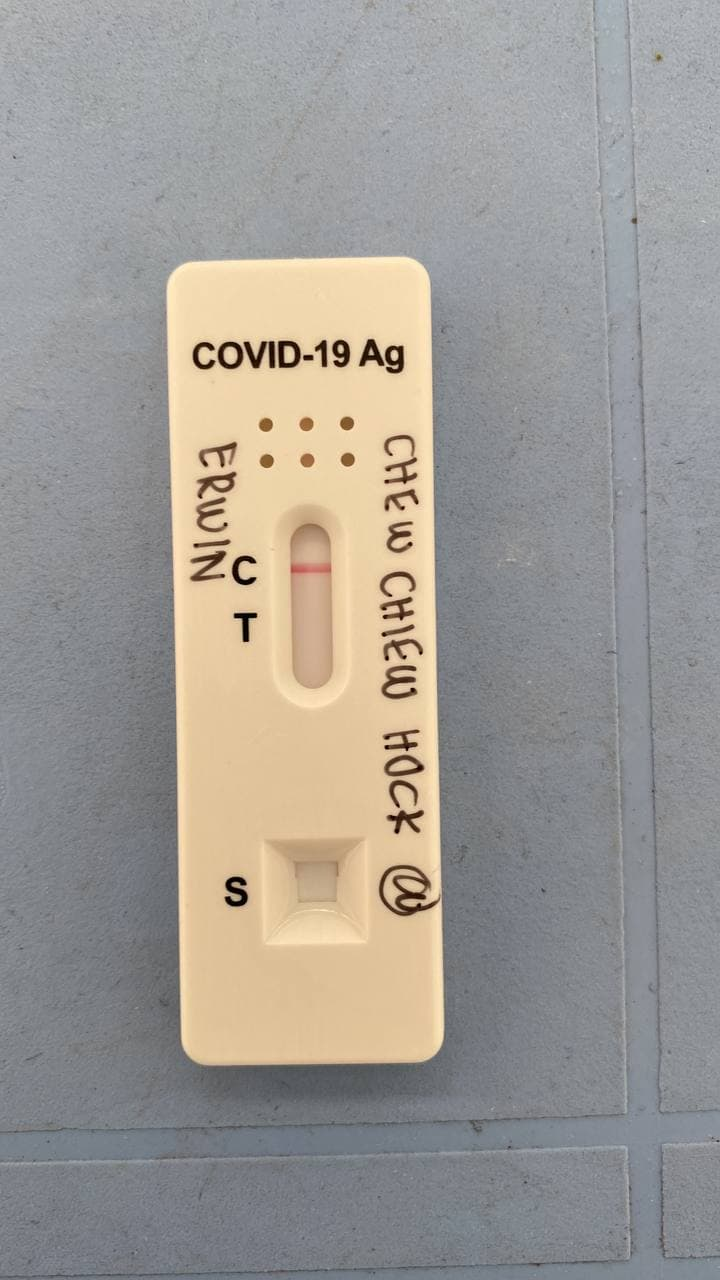rapid_test: (168, 276, 439, 1061)
